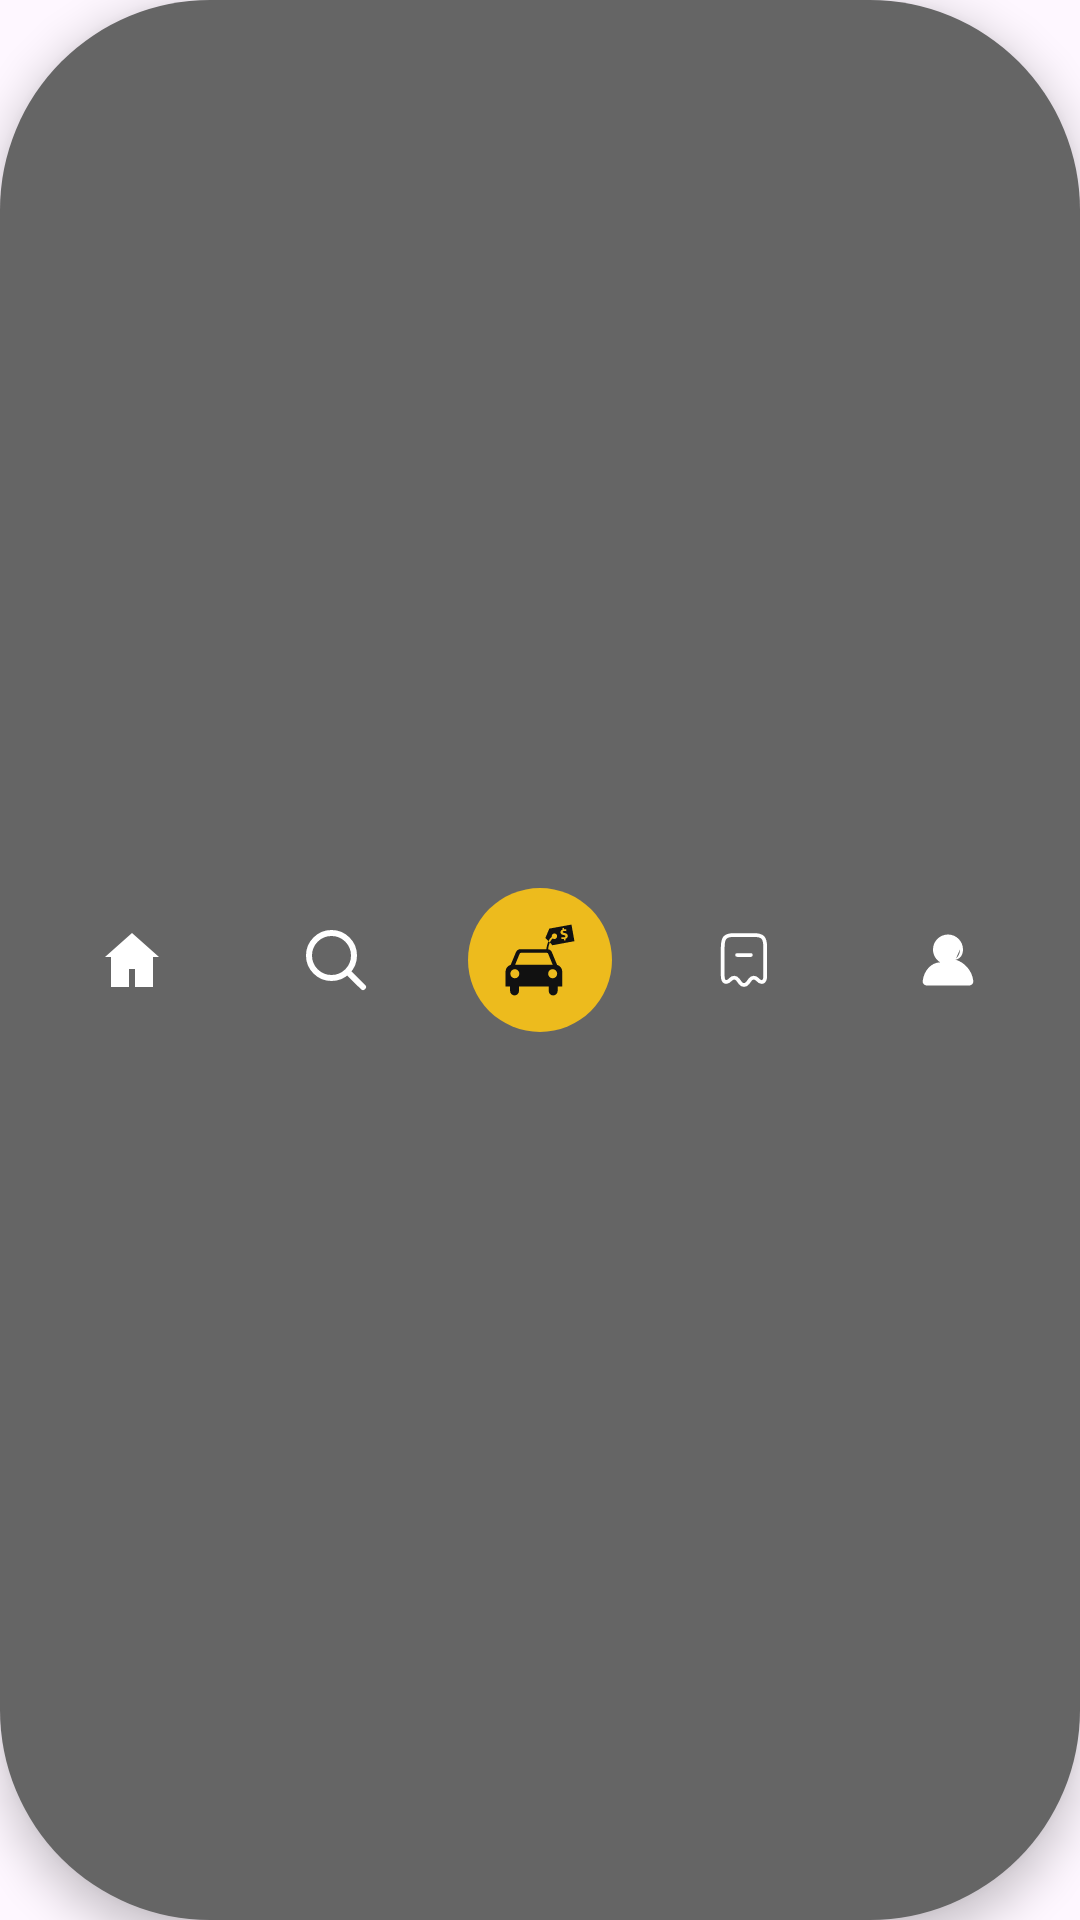

Screen size 1080*1920. Icon name, then its box in pixels as (x1, y1, x2, y2):
home: (105, 933, 159, 987)
profile: (922, 934, 974, 986)
search: (306, 930, 366, 990)
sell: (468, 888, 612, 1032)
transaction: (720, 933, 767, 987)
